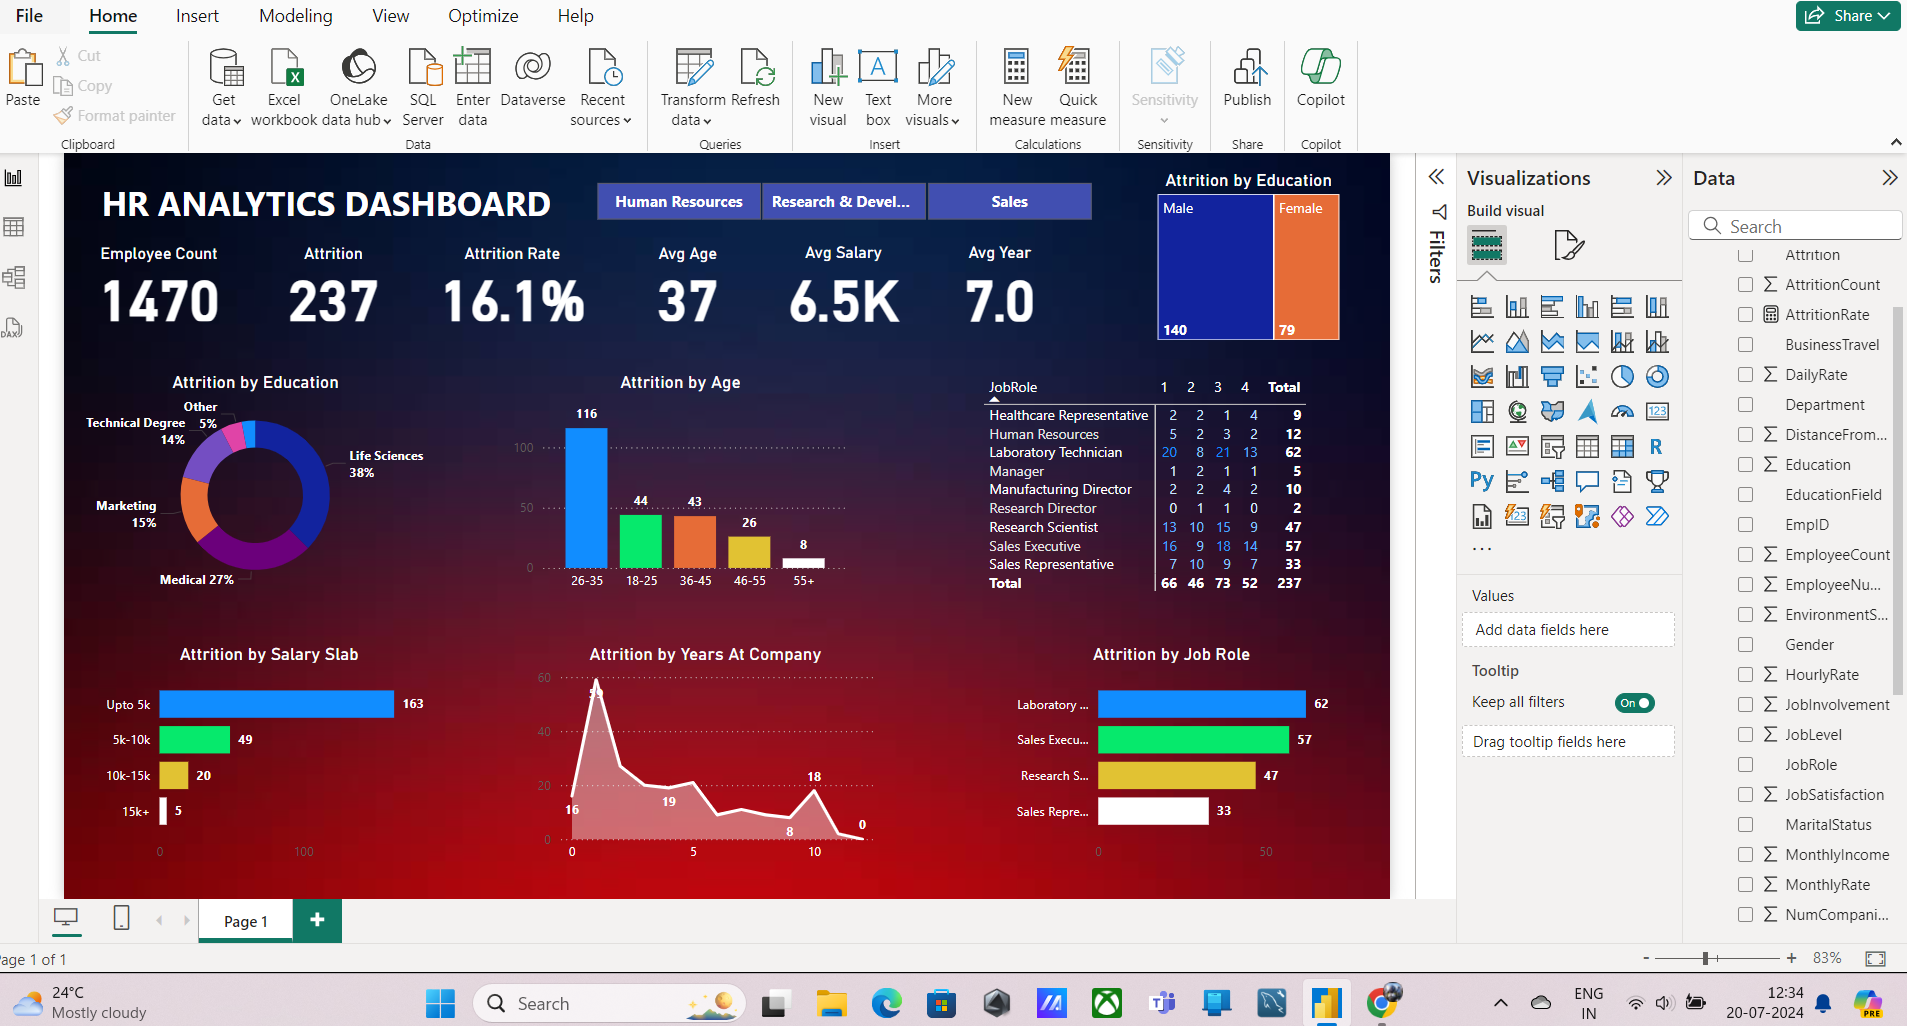

This screenshot's page, from the dashboard's own definition file:
{"tool":"powerbi","page":{"name":"Page 1","canvas":[1280,720],"ordinal":0},"visuals":[{"type":"card","title":"Employee Count","fields":{"Values":["CountNonNull(PB HR.EmpID)"]},"box":[18.1,88.1,147.2,79.6],"z":0},{"type":"card","title":"Attrition","fields":{"Values":["Sum(PB HR.AttritionCustom)"]},"box":[185.8,88.1,148.4,79.6],"z":1000},{"type":"card","title":"Attrition Rate","fields":{"Values":["PB HR.AttritionRate"]},"box":[351.3,87.8,163.3,79.6],"z":2000},{"type":"card","title":"Avg Age","fields":{"Values":["Avg(PB HR.Age)"]},"box":[526.9,87.8,149.6,79.6],"z":3000},{"type":"card","title":"Avg Salary","fields":{"Values":["Avg(PB HR.MonthlyIncome)"]},"box":[676.5,86.4,150.9,81],"z":4000},{"type":"card","title":"Avg Year","fields":{"Values":["Avg(PB HR.YearsAtCompany)"]},"box":[827.4,86.4,150.9,81],"z":5000},{"type":"donutChart","title":"Attrition by Education","fields":{"Category":["PB HR.EducationField"],"Y":["Sum(PB HR.AttritionCount)"]},"box":[17.8,211.3,333.4,219.6],"z":6000},{"type":"columnChart","title":"Attrition by Age","fields":{"Category":["PB HR.AgeGroup"],"Y":["Sum(PB HR.AttritionCount)"]},"box":[428.1,211.3,333.4,219.6],"z":7000},{"type":"pivotTable","fields":{"Rows":["PB HR.JobRole"],"Columns":["PB HR.JobSatisfaction"],"Values":["Sum(PB HR.AttritionCount)"]},"box":[883.7,211.3,333.4,219.6],"z":8000},{"type":"barChart","title":"Attrition by Salary Slab","fields":{"Category":["PB HR.SalarySlab"],"Y":["Sum(PB HR.AttritionCount)"]},"box":[31.6,473.4,333.4,219.6],"z":9000},{"type":"barChart","title":"Attrition by Job Role","fields":{"Category":["PB HR.JobRole"],"Y":["Sum(PB HR.AttritionCount)"]},"box":[902.9,473.4,333.4,219.6],"z":10000},{"type":"areaChart","title":"Attrition by Years At Company","fields":{"Category":["PB HR.YearsAtCompany"],"Y":["Sum(PB HR.AttritionCount)"]},"box":[452.8,473.4,333.4,219.6],"z":11000},{"type":"treemap","title":"Attrition by Education","fields":{"Group":["PB HR.Gender"],"Values":["Sum(PB HR.AttritionCount)"]},"box":[1051.1,15.1,185.2,170.2],"z":12000},{"type":"textbox","box":[31.6,22,459.7,57.6],"z":13000},{"type":"slicer","fields":{"Values":["PB HR.Department"]},"box":[488.5,22,526.9,49.4],"z":14000}]}

Visuals, with their boxes on the page's 1280x720 design canvas (x1, y1, x2, y2). These are canvas units, not pixel positions in the 1907x1026 screenshot, which may show the page scaled, cropped or inside an application window:
"Employee Count" card: l=18, t=88, r=165, b=168
"Attrition" card: l=186, t=88, r=334, b=168
"Attrition Rate" card: l=351, t=88, r=515, b=167
"Avg Age" card: l=527, t=88, r=676, b=167
"Avg Salary" card: l=676, t=86, r=827, b=167
"Avg Year" card: l=827, t=86, r=978, b=167
"Attrition by Education" donutChart: l=18, t=211, r=351, b=431
"Attrition by Age" columnChart: l=428, t=211, r=762, b=431
pivotTable - PB HR.JobRole x PB HR.JobSatisfaction: l=884, t=211, r=1217, b=431
"Attrition by Salary Slab" barChart: l=32, t=473, r=365, b=693
"Attrition by Job Role" barChart: l=903, t=473, r=1236, b=693
"Attrition by Years At Company" areaChart: l=453, t=473, r=786, b=693
"Attrition by Education" treemap: l=1051, t=15, r=1236, b=185
textbox: l=32, t=22, r=491, b=80
slicer - PB HR.Department: l=488, t=22, r=1015, b=71
